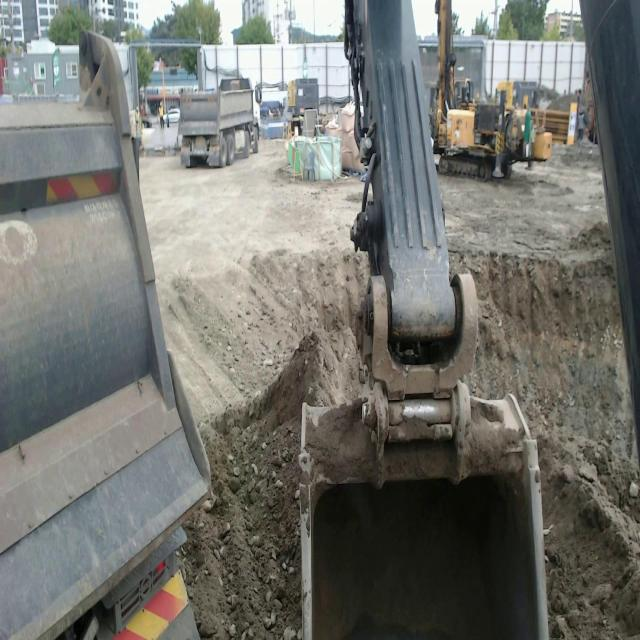red-sand: (141, 141, 369, 639), (439, 143, 640, 639)
